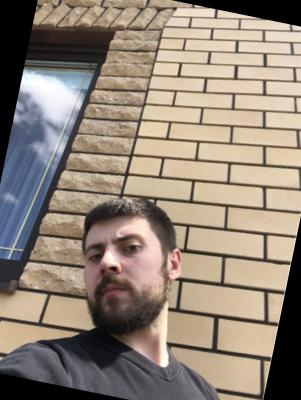without_mask: (69, 221, 179, 345)
